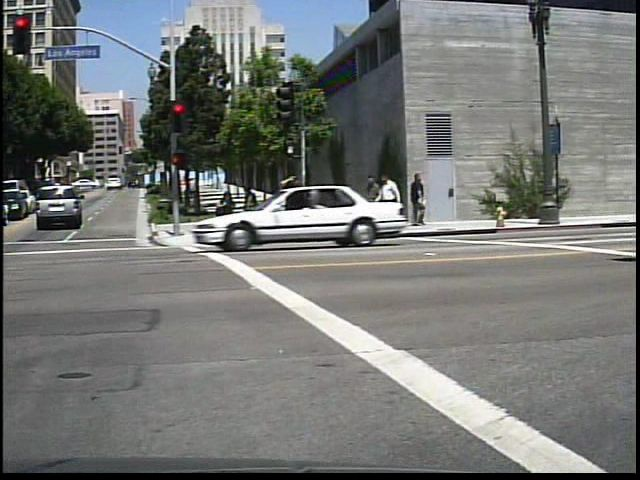person: (404, 171, 433, 228), (217, 188, 238, 219)
